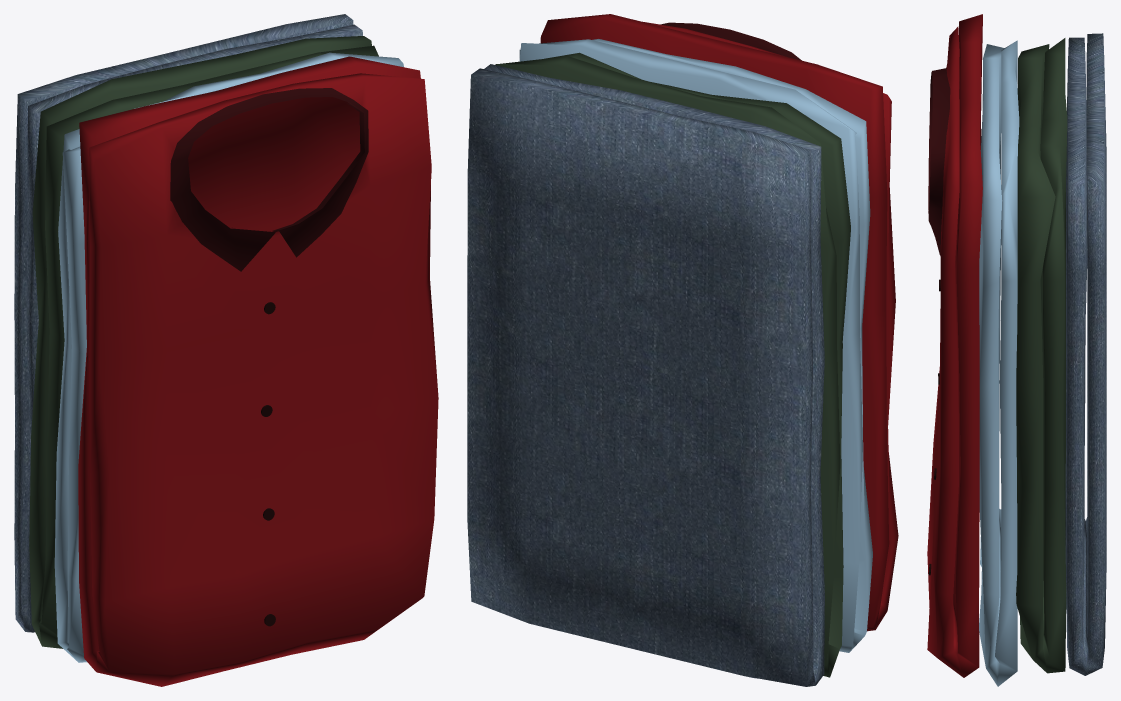
File: folded_clothes.fbx
3 views of the same model, side by side, from view 1: azimuth 30°, elevation 25°; view 2: azimuth 150°, elevation 25°; view 3: azimuth 270°, elevation 25° (orthographic). The views are drawn at different scales.
Parts seen in each view (by area): view 1: Object_5, Object_4, Object_3, Object_2, Object_6; view 2: Object_3, Object_5, Object_2, Object_4, Object_6; view 3: Object_4, Object_5, Object_3, Object_2, Object_6.
Boxes of the visible parts, left/top/right/bottom form: Object_5: left=78, top=56, right=438, bottom=686; Object_4: left=29, top=36, right=378, bottom=648; Object_3: left=14, top=14, right=362, bottom=632; Object_2: left=54, top=52, right=403, bottom=662; Object_6: left=170, top=88, right=368, bottom=271; Object_3: left=467, top=64, right=824, bottom=686; Object_5: left=540, top=14, right=898, bottom=631; Object_2: left=519, top=39, right=872, bottom=652; Object_4: left=495, top=52, right=850, bottom=677; Object_6: left=660, top=22, right=801, bottom=60; Object_4: left=1016, top=38, right=1067, bottom=673; Object_5: left=927, top=14, right=982, bottom=677; Object_3: left=1065, top=33, right=1106, bottom=675; Object_2: left=979, top=40, right=1019, bottom=686; Object_6: left=928, top=68, right=950, bottom=255.
Size of the model in its own units: 26.33 by 40.41 by 12.24.
6 materials, 1 textured.
